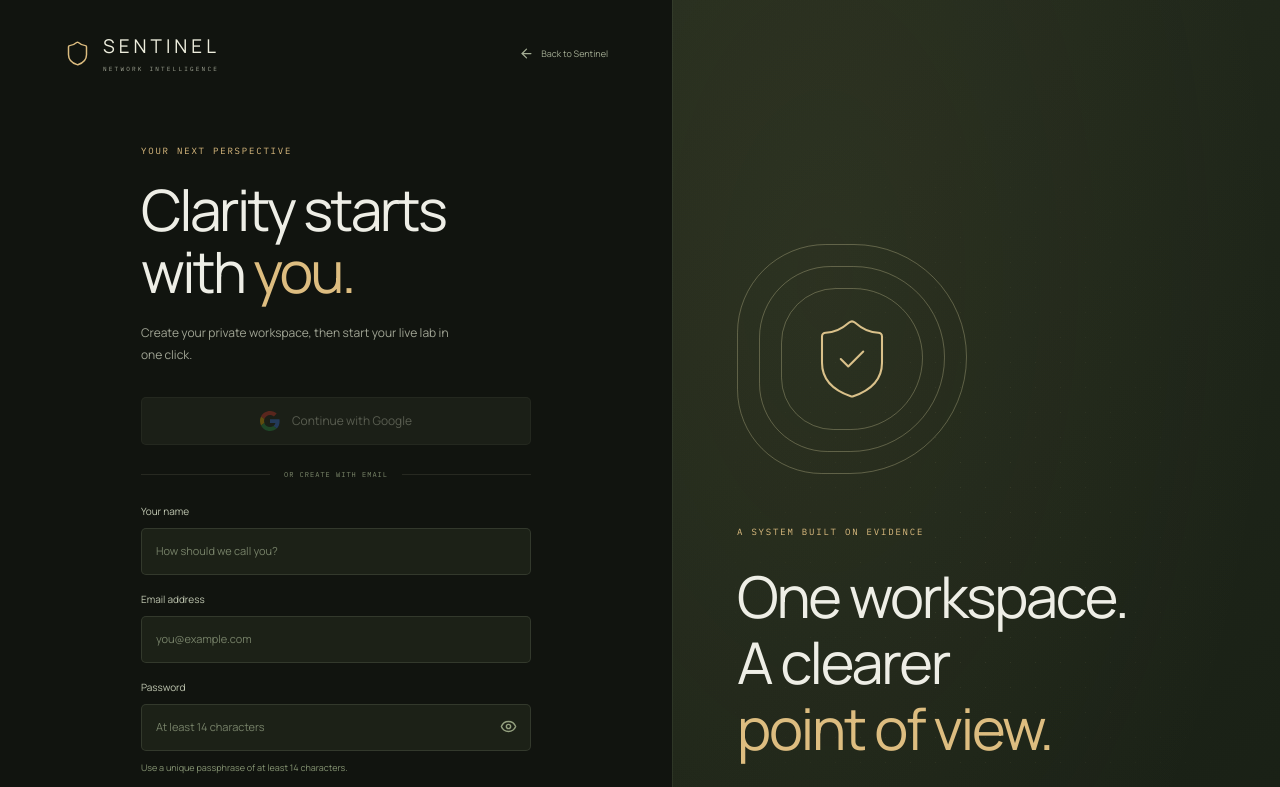
Scenario: public account entry › keeps server rejection visible and allows retry
Step 1. Type "existing@example.test" into the field labelled "Email address" → (336, 639), box [141, 616, 531, 663]
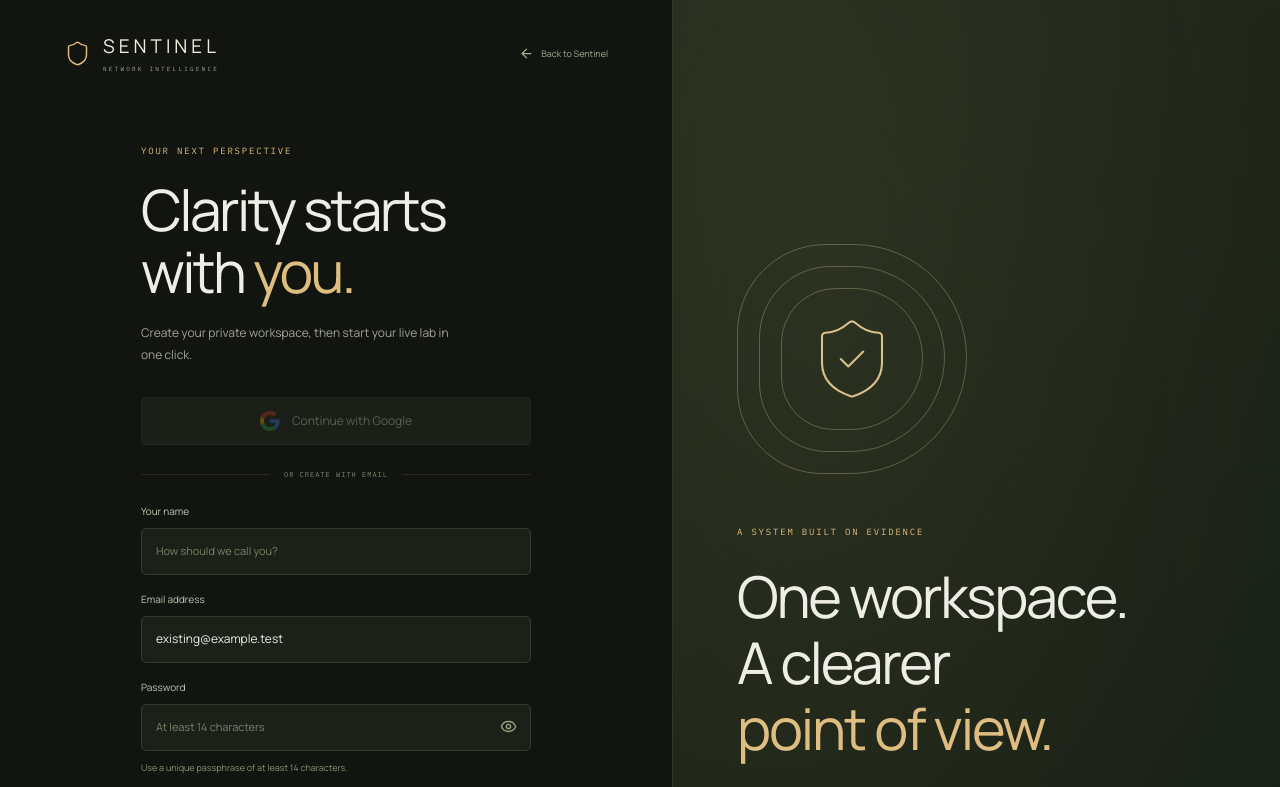
Step 2. Type "A-long-private-passphrase!" into the password field labelled "Password" → (336, 727), box [141, 704, 531, 751]
(page scrolled)
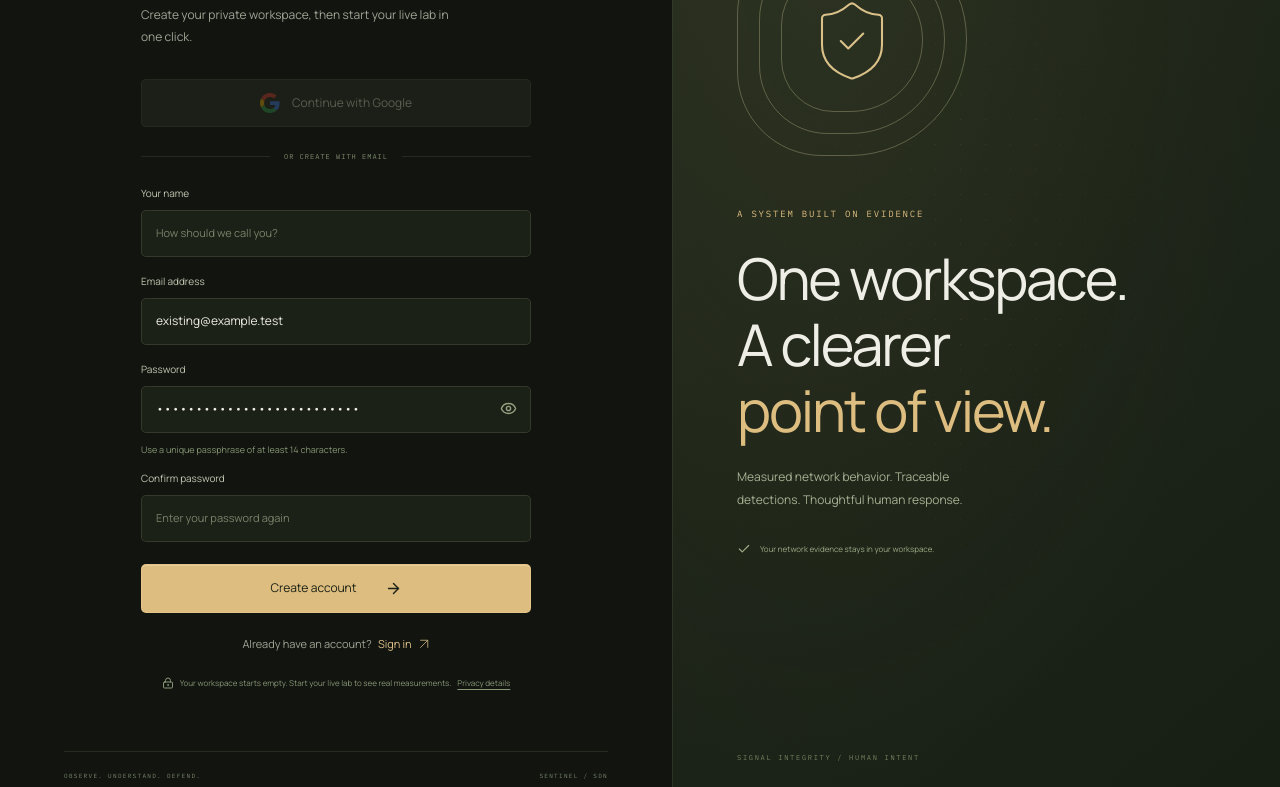
Step 3. Type "A-long-private-passphrase!" into the password field labelled "Confirm password" → (336, 518), box [141, 495, 531, 542]
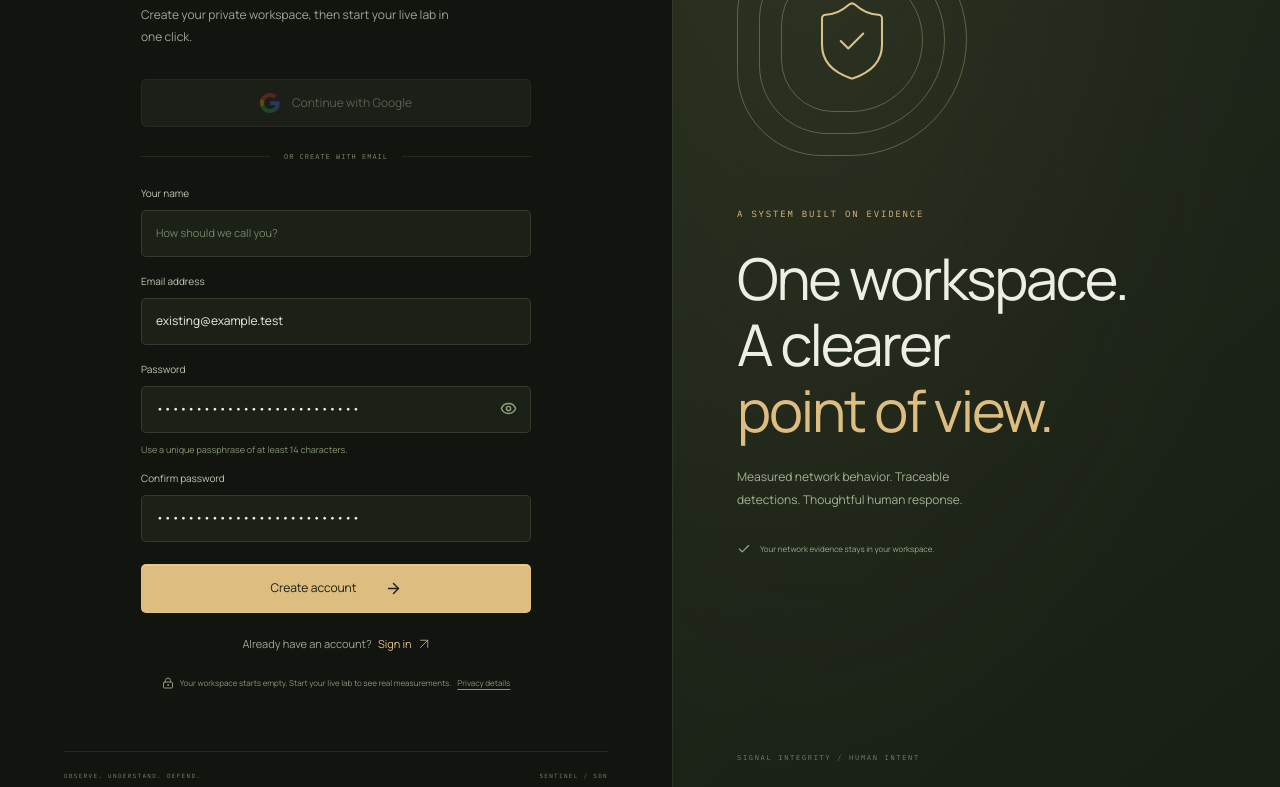
Step 4. Submit the form named "Create account", box [141, 186, 531, 613]
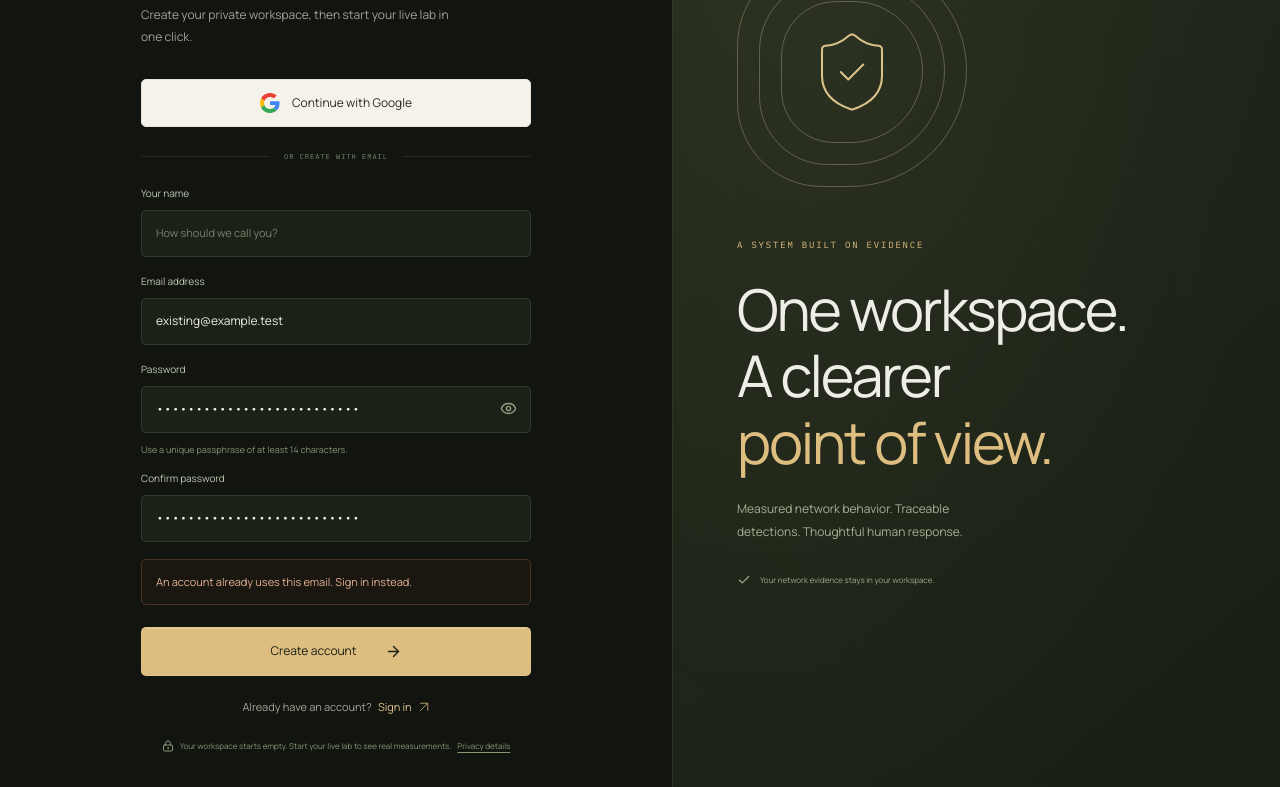
Expected: the button "Create account" is enabled, [141, 627, 531, 676]
Result: the text "An account already uses this email. Sign in instead." is shown at [141, 559, 531, 605]
